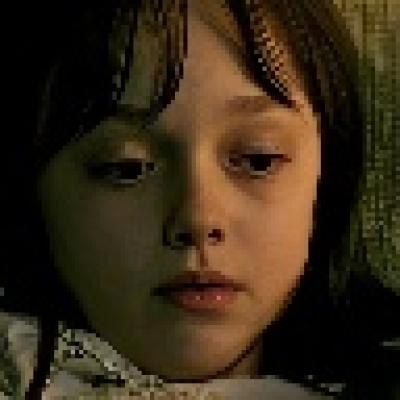sad: (57, 14, 319, 384)
